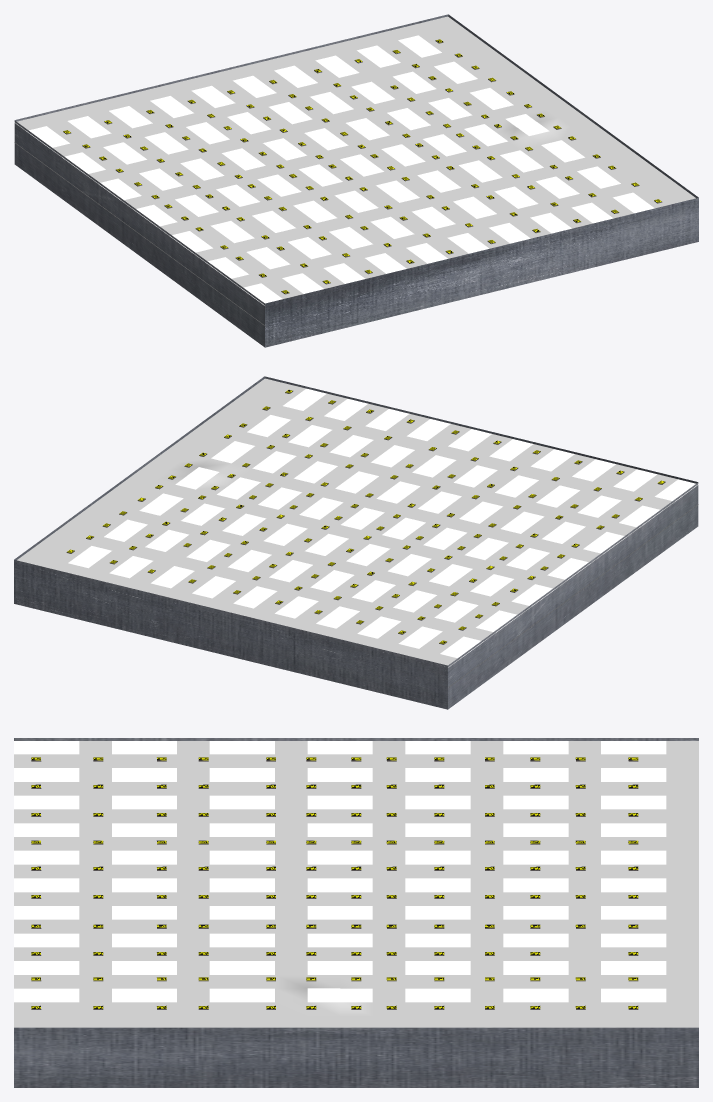
Rendered from backrooms_l1.glb.
The picture shows the model from 3 angles, top to bottom: view 1: azimuth 30°, elevation 25°; view 2: azimuth 150°, elevation 25°; view 3: azimuth 270°, elevation 25°; orthographic projection. The views are drawn at different scales.
Visible parts, largest first — view 1: top_4_7, walls_0_3; view 2: top_4_7, walls_0_3; view 3: top_4_7, walls_0_3.
Boxes of the visible parts, x1,y1,x2,y2 form: top_4_7: (14, 16, 695, 305); walls_0_3: (14, 14, 698, 347); top_4_7: (17, 378, 698, 667); walls_0_3: (14, 376, 698, 709); top_4_7: (14, 741, 698, 1027); walls_0_3: (14, 738, 698, 1087).
Bounding box in the file's own units: 58.72 × 5.7 × 58.65.
Materials: 6 (4 with a texture image).
